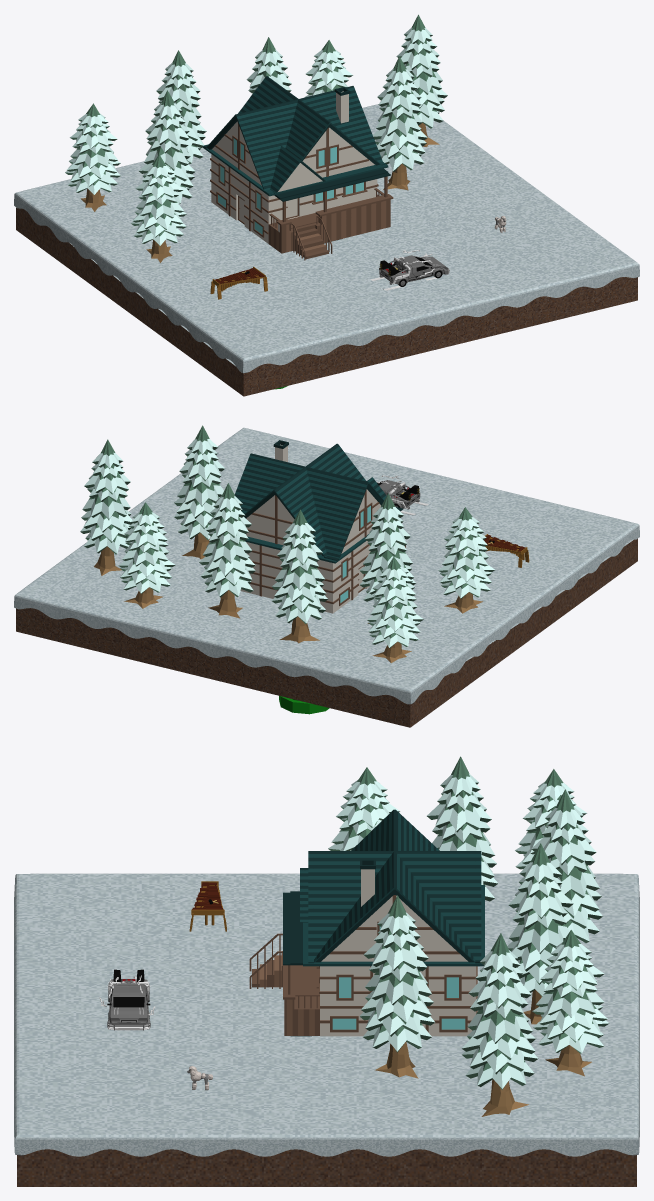
3 renders of one model, top to bottom at view 1: azimuth 30°, elevation 25°; view 2: azimuth 150°, elevation 25°; view 3: azimuth 270°, elevation 25°, orthographic. The views are drawn at different scales.
Parts seen in each view (by area): view 1: Cube.003, Cube.793, VEHICLES_DELOREAN, OBJRANDOM_MARIMBA; view 2: Cube.003, Cube.793, VEHICLES_DELOREAN, OBJRANDOM_MARIMBA, UNDERGROUND_PIPES; view 3: Cube.003, Cube.793, VEHICLES_DELOREAN, OBJRANDOM_MARIMBA.
Part boxes in pixels (bbox=[...]): Cube.003: bbox=[14, 14, 639, 396]; Cube.793: bbox=[202, 76, 393, 260]; VEHICLES_DELOREAN: bbox=[366, 249, 449, 290]; OBJRANDOM_MARIMBA: bbox=[210, 266, 267, 299]; Cube.003: bbox=[14, 425, 639, 727]; Cube.793: bbox=[234, 440, 405, 613]; VEHICLES_DELOREAN: bbox=[376, 475, 428, 515]; OBJRANDOM_MARIMBA: bbox=[484, 534, 529, 567]; UNDERGROUND_PIPES: bbox=[279, 696, 329, 714]; Cube.003: bbox=[14, 756, 639, 1186]; Cube.793: bbox=[249, 809, 484, 1036]; VEHICLES_DELOREAN: bbox=[99, 969, 155, 1030]; OBJRANDOM_MARIMBA: bbox=[189, 881, 226, 931].
Size of the model in its own units: 4040 by 2275 by 4040.
Materials: 29 (4 with a texture image).
